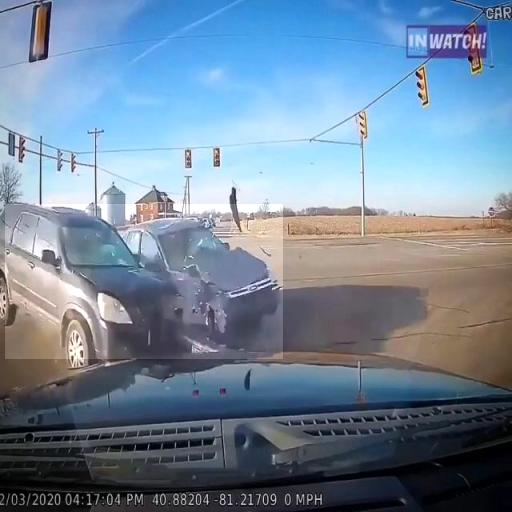小汽车撞小汽车: (5, 204, 283, 359)
